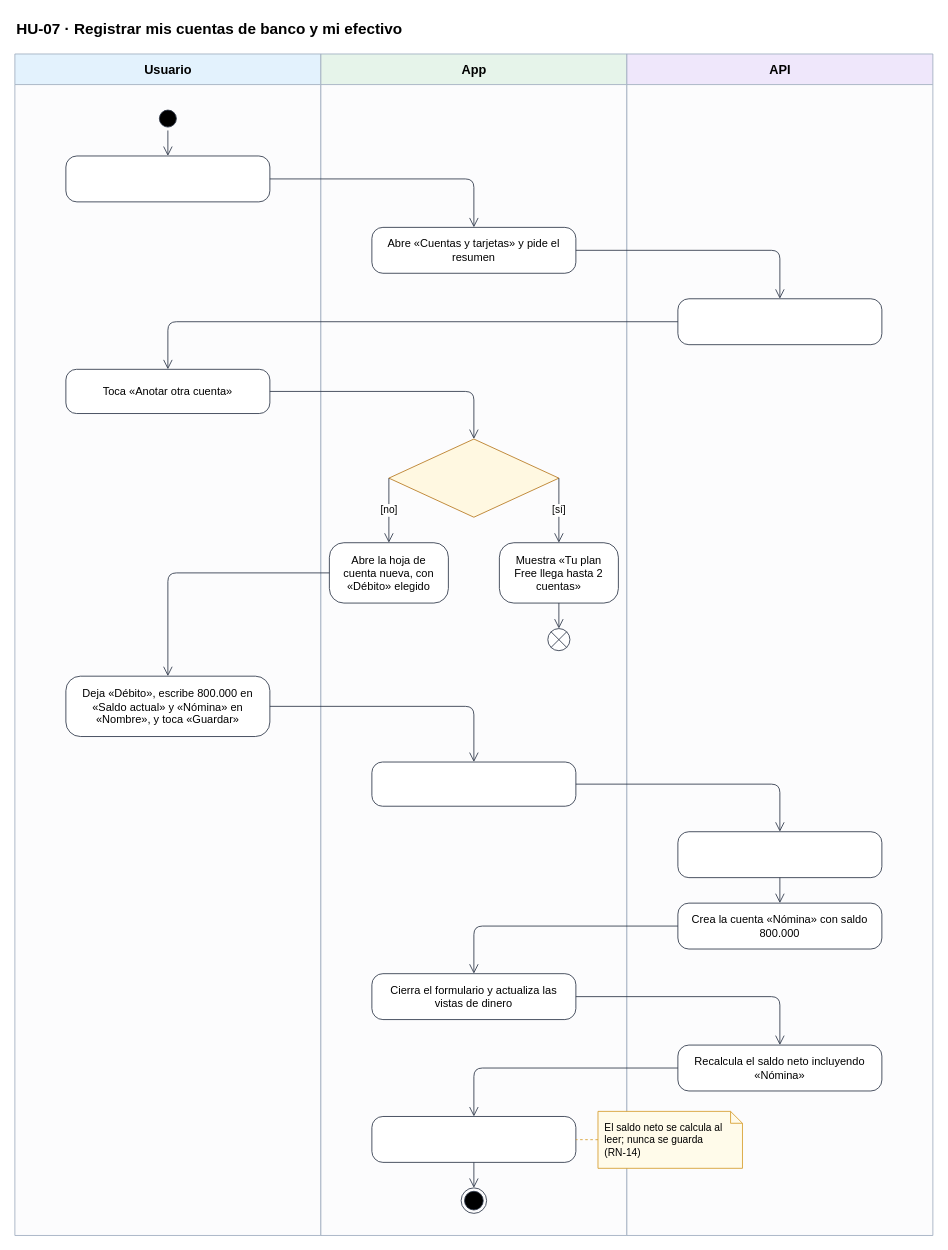
This 948x1250 diagram has some shape labels left out. The shapes that lost their labels are listed below. From the top down, each one's centre as x and y in pixels, then its label:
At pixel 167 178: "En «Inicio» toca «En tus cuentas»".
At pixel 779 321: "Lista las cuentas y tarjetas de Ana y calcula el saldo neto".
At pixel 473 477: "¿Plan Free y ya tiene 2 cuentas?".
At pixel 473 783: "Envía la cuenta nueva".
At pixel 779 854: "Valida los datos y vuelve a revisar el límite del plan".
At pixel 473 1139: "Muestra «Nómina» con $800.000 y el neto actualizado".
